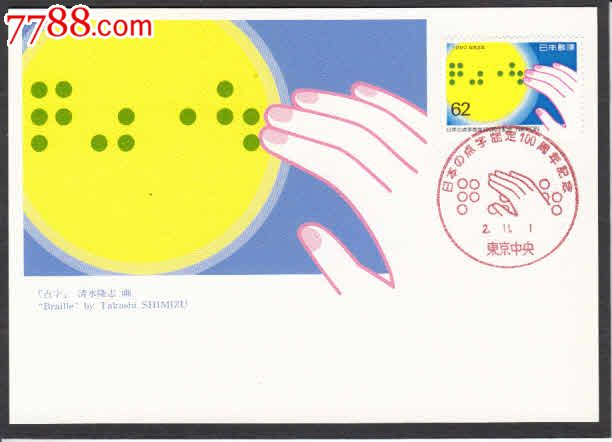Braille: (30, 80, 74, 154), (90, 81, 135, 153), (217, 79, 260, 153), (153, 80, 197, 151), (458, 178, 480, 217), (488, 61, 505, 88), (468, 61, 485, 87), (448, 61, 465, 86), (508, 61, 524, 86)
